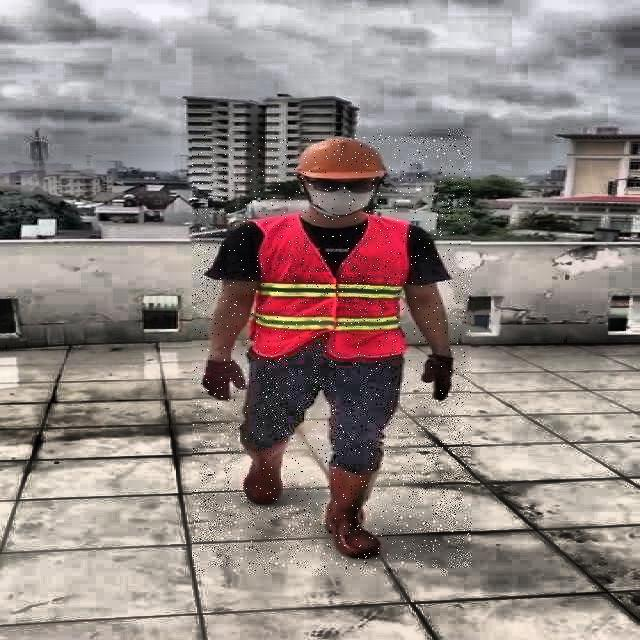safety_helmet: (294, 136, 388, 182)
safety_jacket: (248, 218, 406, 357)
